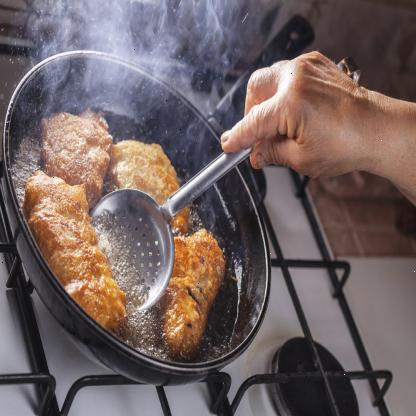smoke: (18, 0, 252, 192)
